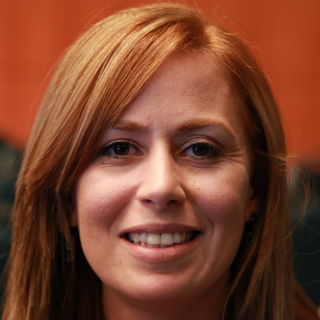eye: (177, 138, 226, 165), (94, 136, 142, 163)
